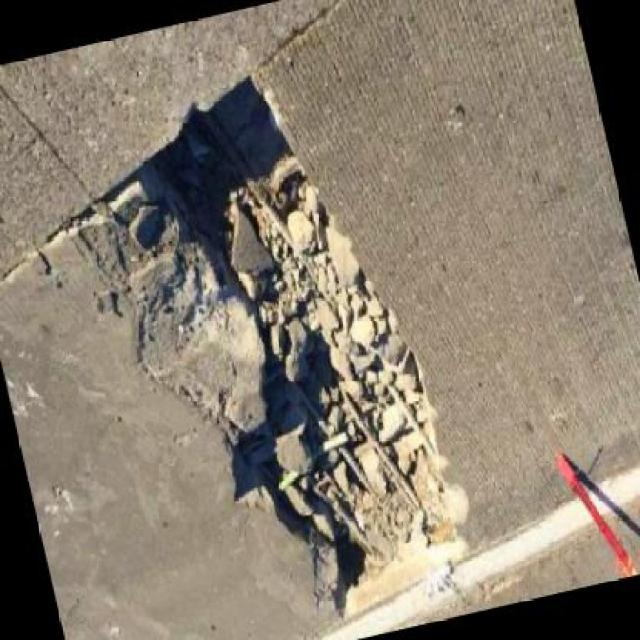pothole: (105, 43, 486, 639)
